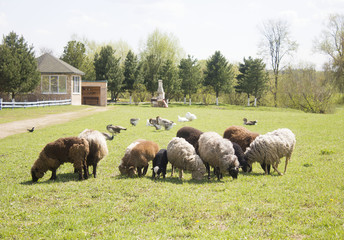sheep: (34, 140, 95, 188), (202, 133, 249, 192), (249, 129, 294, 181), (168, 141, 206, 194), (125, 141, 158, 178), (79, 132, 102, 171), (223, 124, 256, 147), (152, 148, 171, 182), (172, 126, 200, 142), (145, 114, 163, 135), (181, 110, 199, 122), (107, 122, 121, 136)
